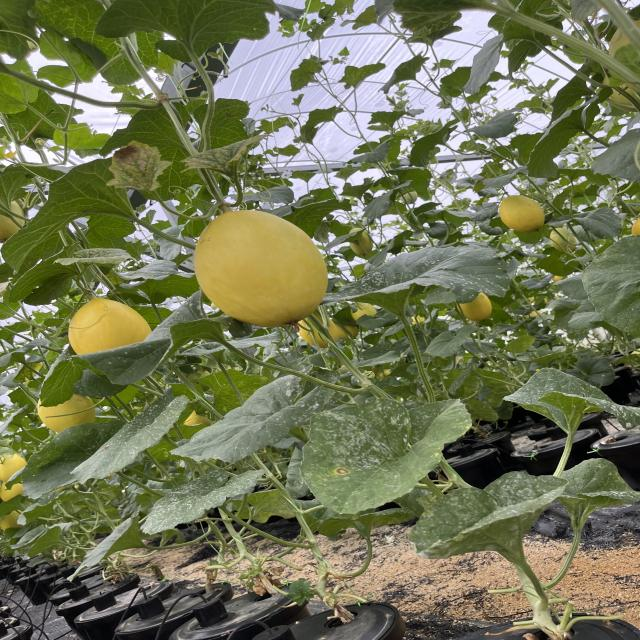CMV: (188, 133, 273, 178)
alternaria leaf blight: (106, 141, 176, 190)
downy mildew: (286, 400, 478, 516), (403, 472, 573, 566), (167, 375, 333, 465), (550, 462, 640, 518)
healthy: (0, 159, 127, 268), (97, 0, 277, 68), (36, 0, 154, 84), (521, 99, 608, 185)
powdery mildew: (284, 398, 474, 515), (320, 246, 516, 318), (70, 390, 195, 484), (137, 470, 267, 540), (503, 368, 640, 433)
